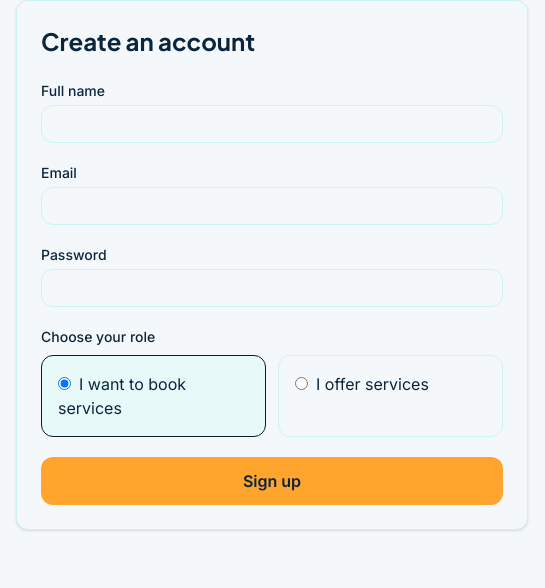
Test case: SignupPage › validates password length and offers no admin role
Type "Test User" into the field labelled "Full name".
click(272, 124); type("Test User")  # box [41,105,503,143]
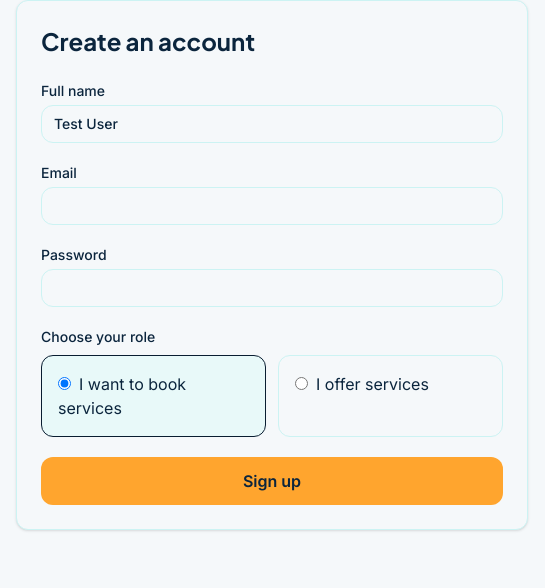
Type "test@example.com" into the field labelled "Email".
click(272, 206); type("test@example.com")  # box [41,187,503,225]
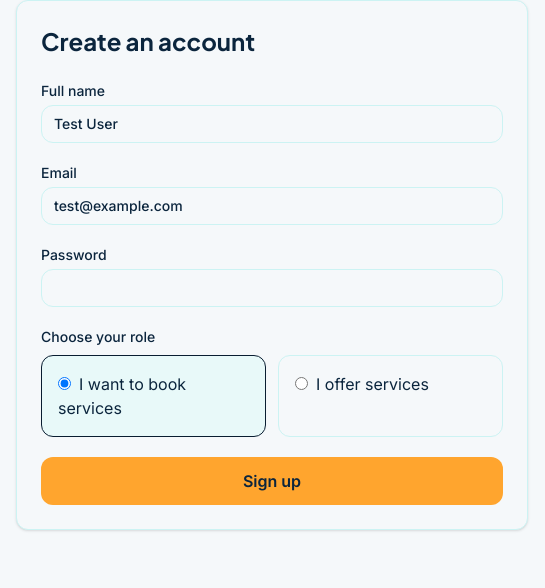
Type "short" into the password field labelled "Password".
click(272, 288); type("short")  # box [41,269,503,307]
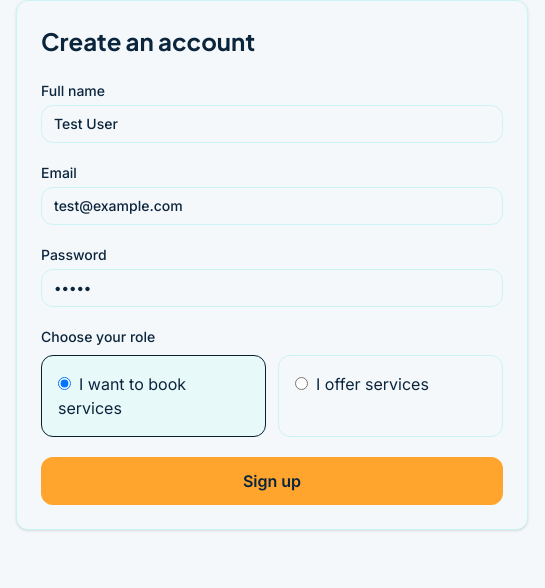
Click the button "Sign up".
click(272, 481)  # box [41,457,503,505]
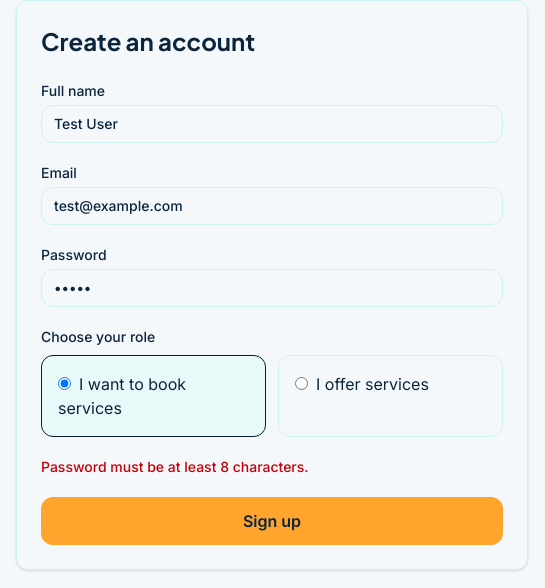
Check: the message reads "Password must be at least 8 characters.", box [41,458,309,475]
